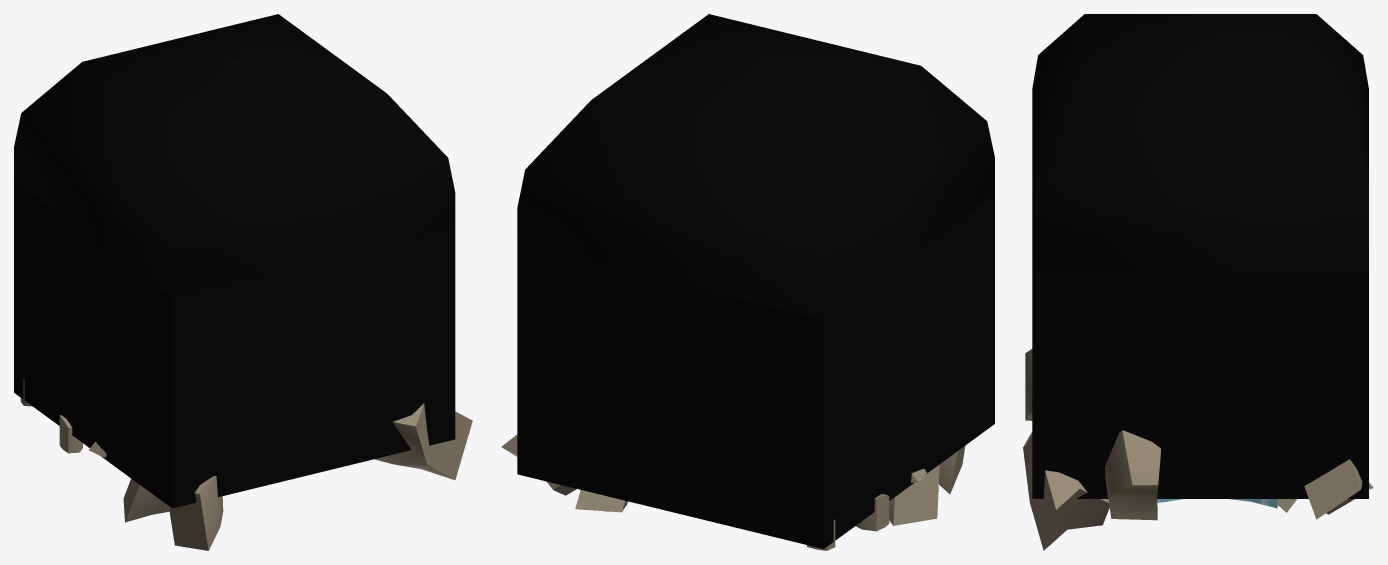
Rendered from haikei.fbx.
3 renders of one model, left to right at view 1: azimuth 30°, elevation 25°; view 2: azimuth 150°, elevation 25°; view 3: azimuth 270°, elevation 25°, orthographic. The views are drawn at different scales.
Parts seen in each view (by area): view 1: pasted__pCube1, pasted__pCube10, pasted__pCube19, pasted__pCube20, pCube2; view 2: pasted__pCube1, pasted__pCube20, pasted__pCube13, pCube2, pasted__pCube19; view 3: pasted__pCube1, pasted__pCube16, pasted__pCube10, pasted__pCube14, pasted__pCube19.
Part boxes in pixels (x1,y1,x2,y2): pasted__pCube1: (14,14,455,508); pasted__pCube10: (374,403,472,479); pasted__pCube19: (169,476,223,550); pasted__pCube20: (123,478,169,522); pCube2: (59,415,82,453); pasted__pCube1: (517,14,994,548); pasted__pCube20: (889,464,939,525); pasted__pCube13: (575,490,627,512); pCube2: (856,494,889,531); pasted__pCube19: (939,446,965,494); pasted__pCube1: (1032,14,1368,498); pasted__pCube16: (1105,430,1160,520); pasted__pCube10: (1023,432,1109,550); pasted__pCube14: (1304,459,1362,519); pasted__pCube19: (1025,349,1032,420).
Size of the model in its own units: 172 by 210 by 151.
